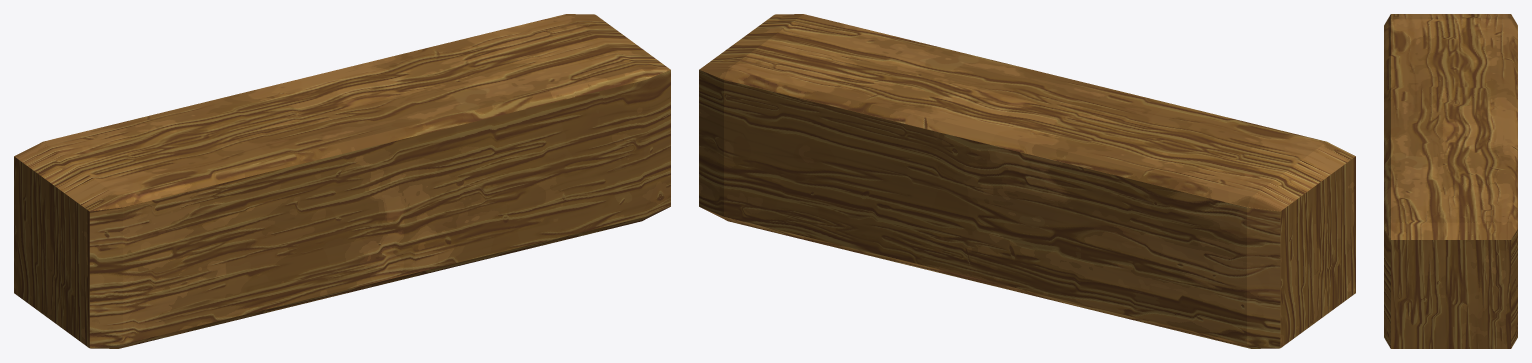
File: tile zolla.fbx
3 views of the same model, side by side, from view 1: azimuth 30°, elevation 25°; view 2: azimuth 150°, elevation 25°; view 3: azimuth 270°, elevation 25° (orthographic). The views are drawn at different scales.
Parts seen in each view (by area): view 1: pCube13; view 2: pCube13; view 3: pCube13.
Boxes of the visible parts, x1,y1,x2,y2 form: pCube13: [14, 14, 670, 348]; pCube13: [699, 14, 1355, 348]; pCube13: [1384, 14, 1517, 348].
Size of the model in its own units: 2000 by 500 by 500.
